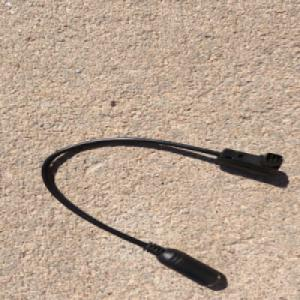Wire: (38, 136, 287, 288)
